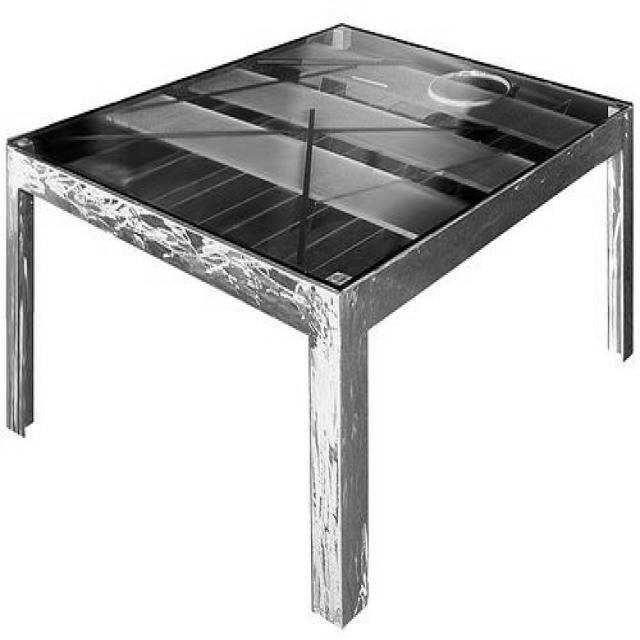table: (7, 18, 633, 624)
